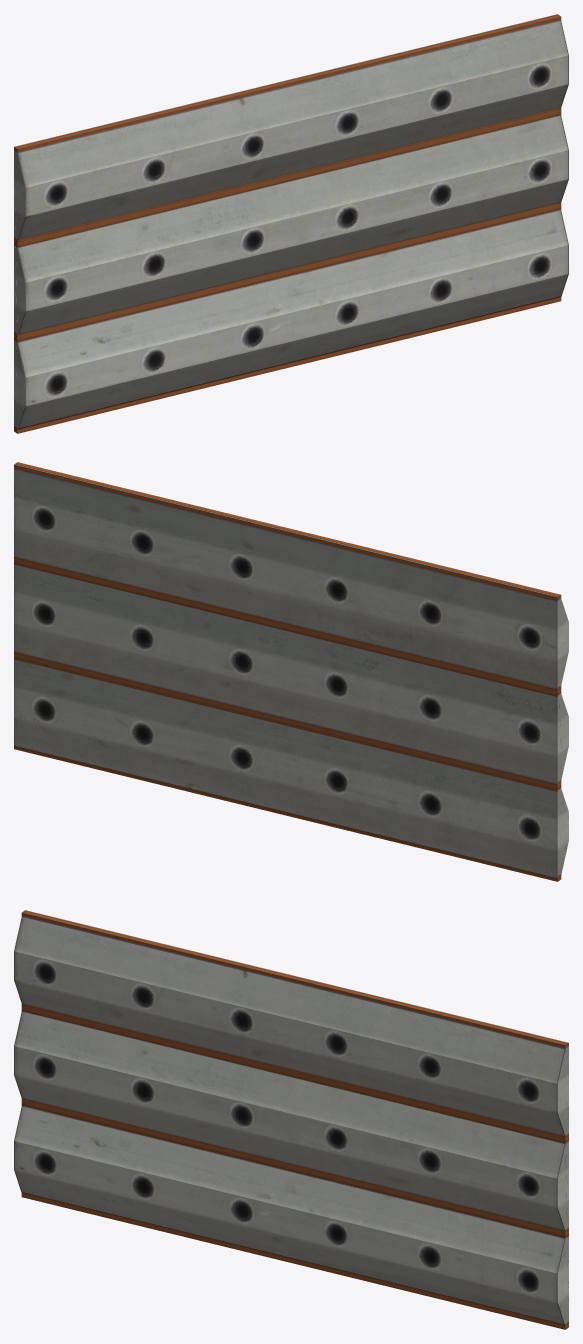
Rendered from nt_hydro_plate_LOD0.obj.
3 renders of one model, top to bottom at view 1: azimuth 30°, elevation 25°; view 2: azimuth 150°, elevation 25°; view 3: azimuth 330°, elevation 25°, orthographic.
Visible parts, largest first — view 1: nt_2020_hydroponic_floor_holes; view 2: nt_2020_hydroponic_floor_holes; view 3: nt_2020_hydroponic_floor_holes.
Part boxes in pixels (<box>): nt_2020_hydroponic_floor_holes: <box>14,14,568,433</box>; nt_2020_hydroponic_floor_holes: <box>14,462,568,881</box>; nt_2020_hydroponic_floor_holes: <box>14,910,568,1329</box>.
Size of the model in its own units: 142 by 71.12 by 5.08.
Materials: 1 (1 with a texture image).
